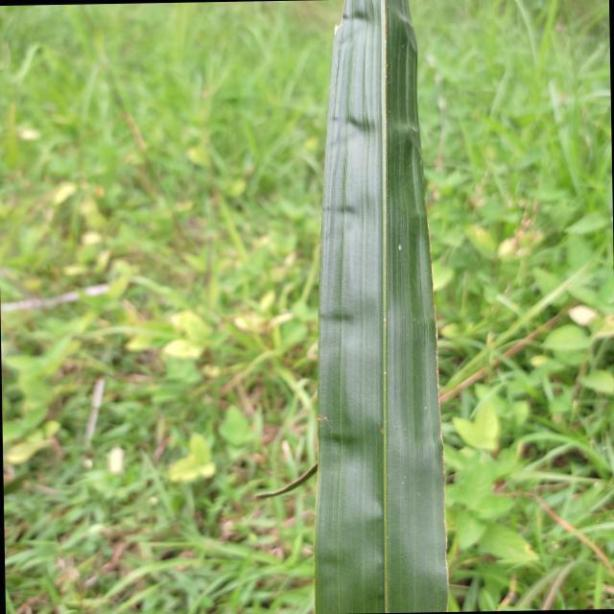Boron: (317, 0, 446, 614)
